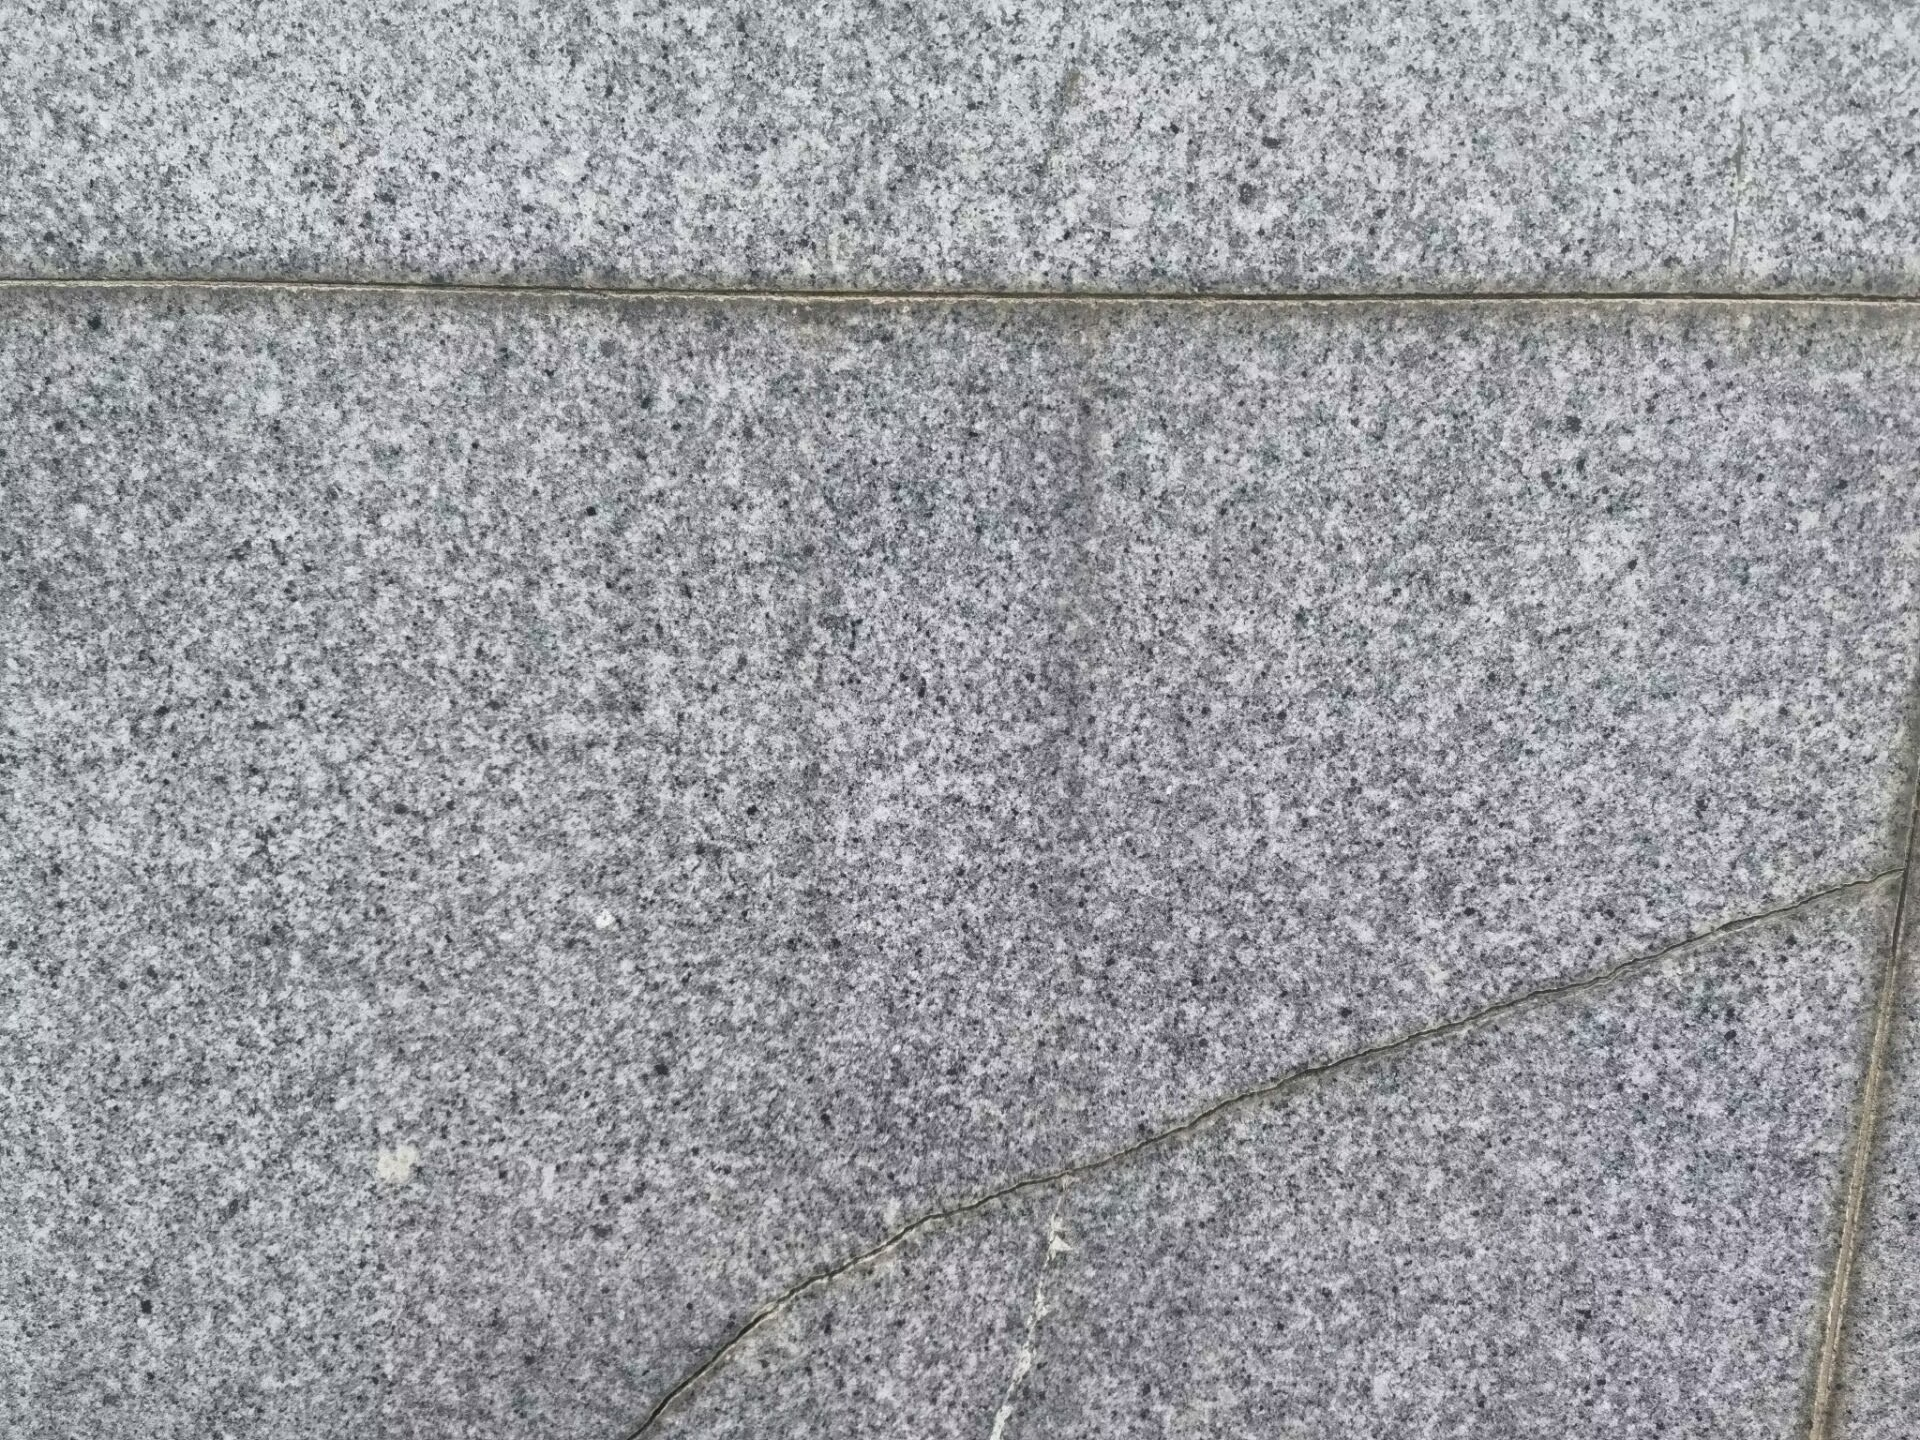TILE: (617, 835, 1920, 1440)
